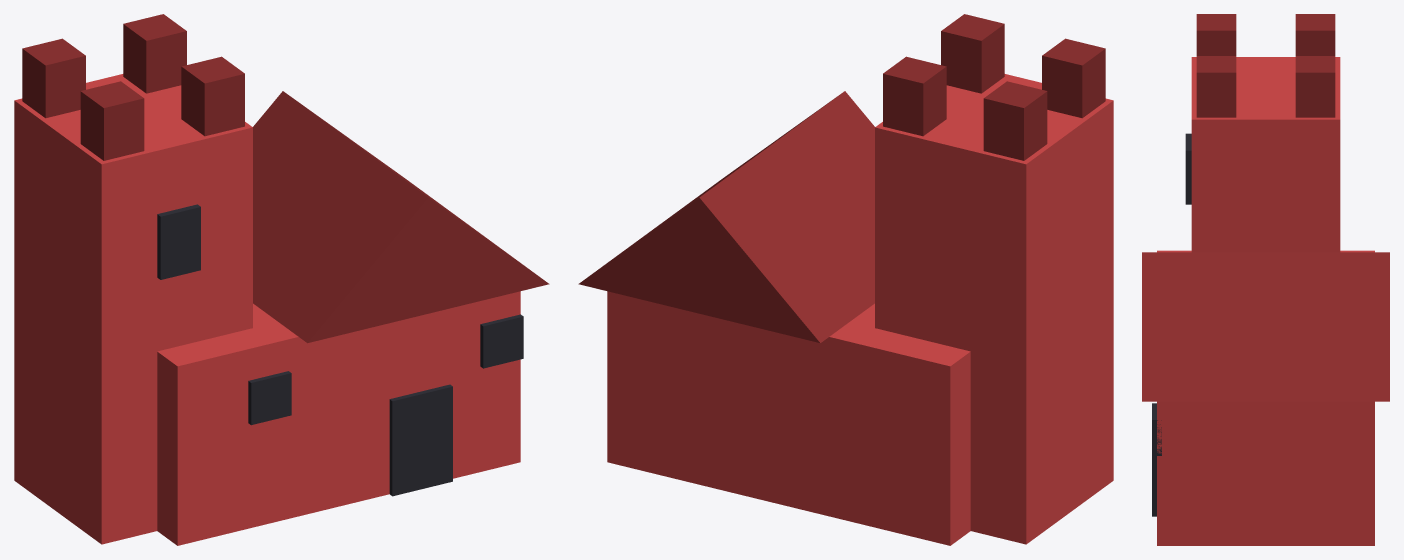
File: city.glb
The picture shows the model from 3 angles, left to right: view 1: azimuth 30°, elevation 25°; view 2: azimuth 150°, elevation 25°; view 3: azimuth 270°, elevation 25°; orthographic projection. The views are drawn at different scales.
Parts seen in each view (by area): view 1: city; view 2: city; view 3: city.
Part boxes in pixels (bbox=[...]): city: bbox=[14, 14, 549, 545]; city: bbox=[578, 14, 1113, 545]; city: bbox=[1142, 14, 1389, 545].
Size of the model in its own units: 0.415 by 0.41 by 0.25.
